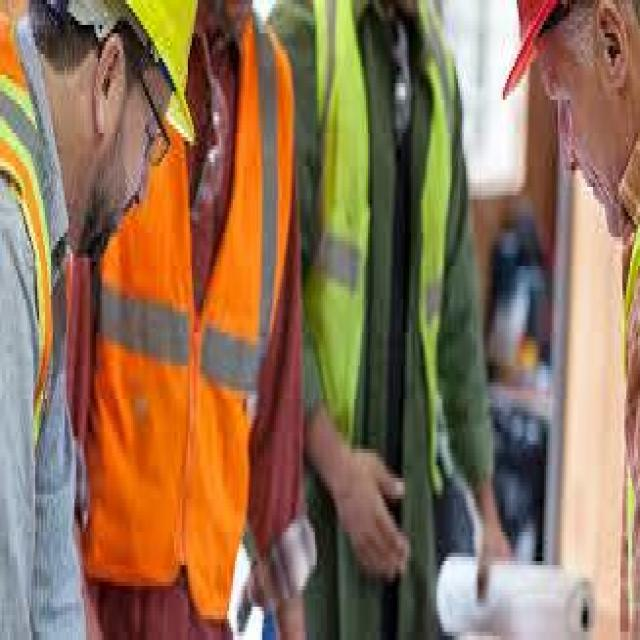Reflective-Jacket: (84, 8, 309, 632), (327, 38, 489, 509), (1, 1, 88, 640)
Safety-Helmet: (84, 1, 206, 133), (495, 1, 640, 108)
